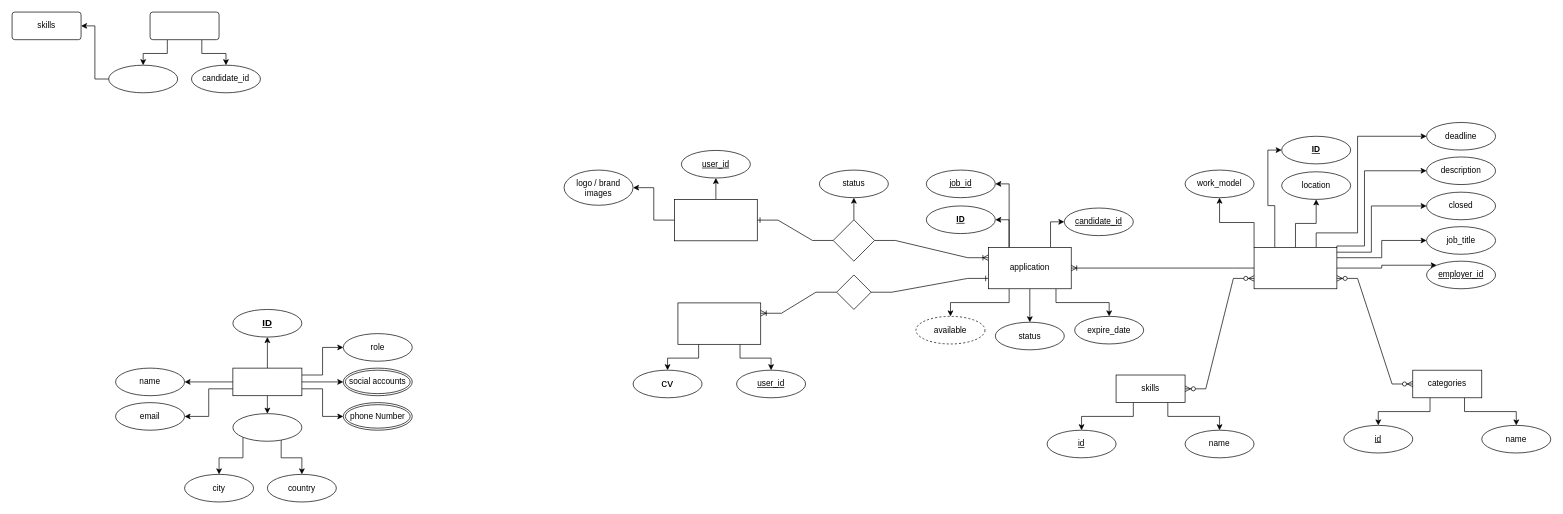
This 1563x514 diagram has some shape labels left out. The shapes that lost their labels are listed below. From the top down, each one's centre as x and y in pixels, then its label:
(x=184, y=25): candidate_skills
(x=143, y=79): skill_id
(x=715, y=220): Employer
(x=853, y=240): post
(x=1295, y=268): Job
(x=853, y=291): has
(x=719, y=323): Candidate
(x=267, y=381): users
(x=267, y=427): address
